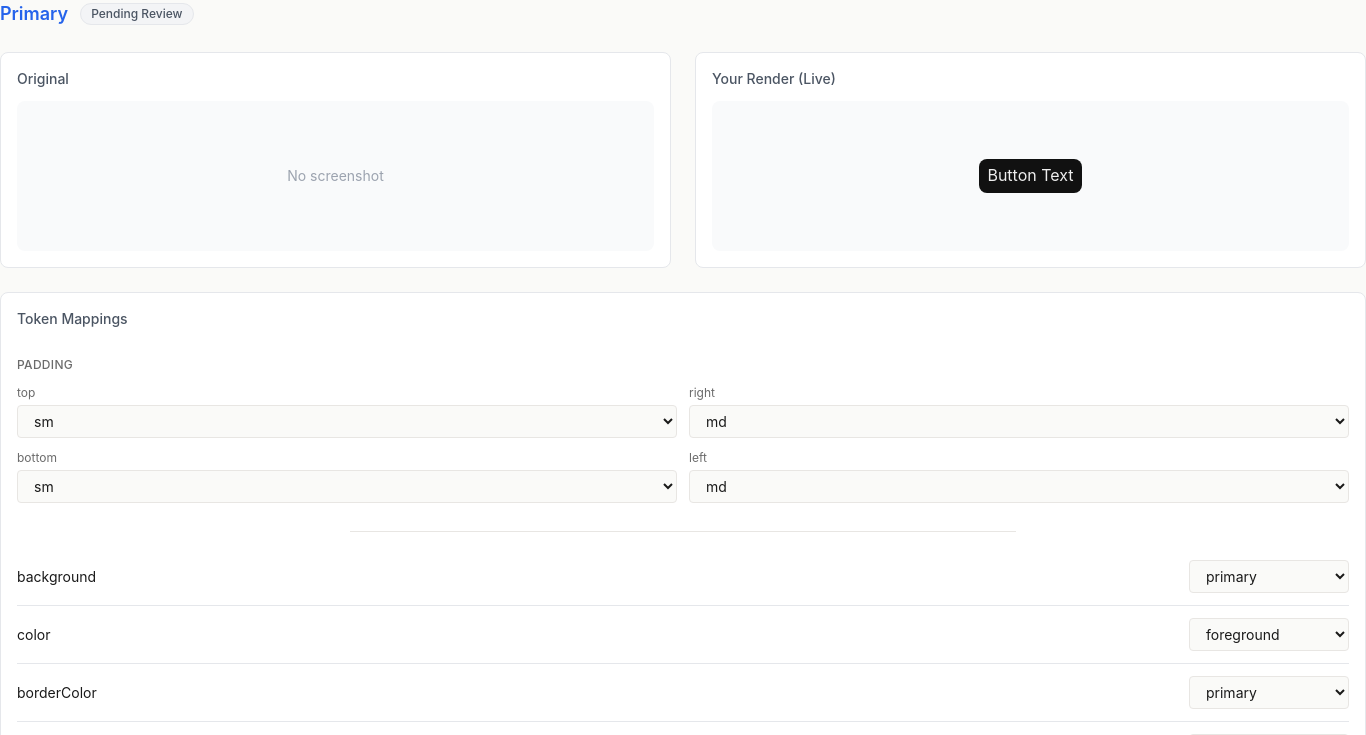
Scenario: VariantDetail › allows renaming and updates name via wizard state
Click the heading "Primary": (34, 14) top-left (0, 0), bottom-right (68, 28)
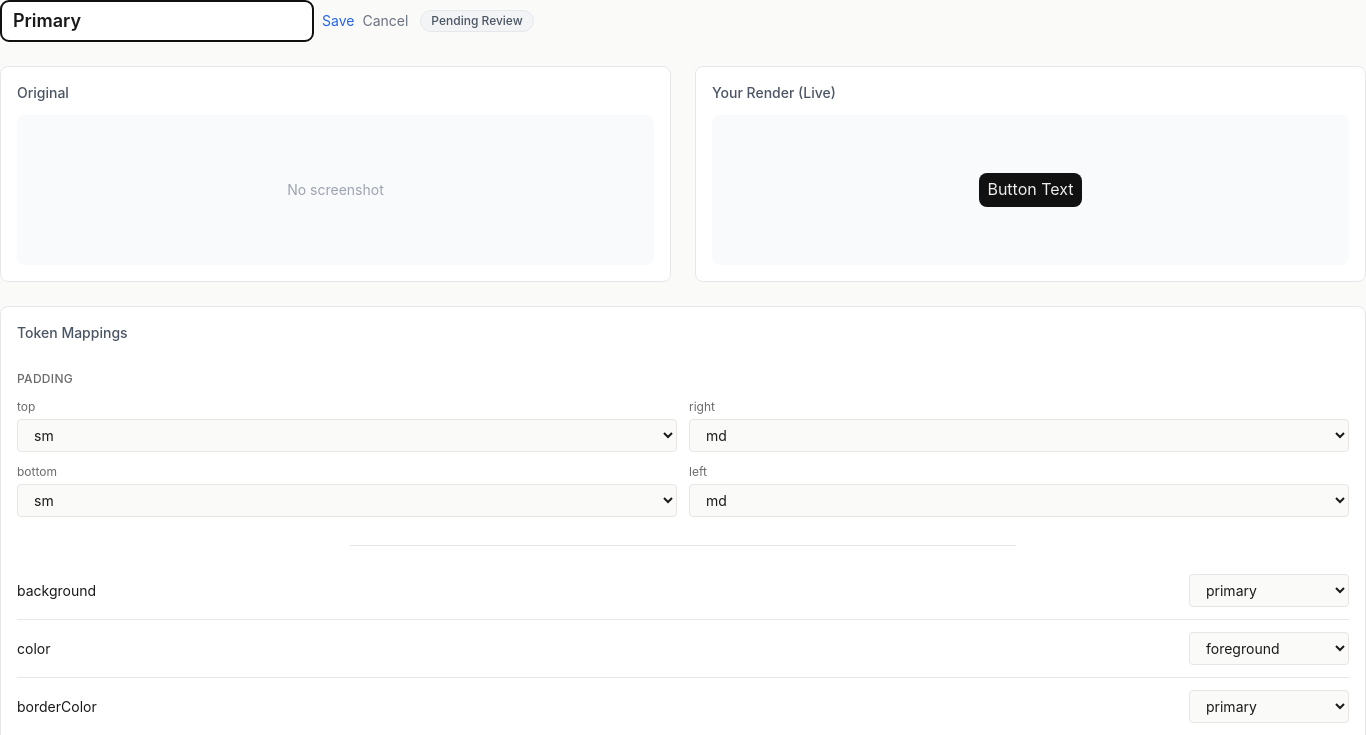
Replace the text in the field with "  Renamed  ": (157, 21) top-left (0, 0), bottom-right (314, 42)
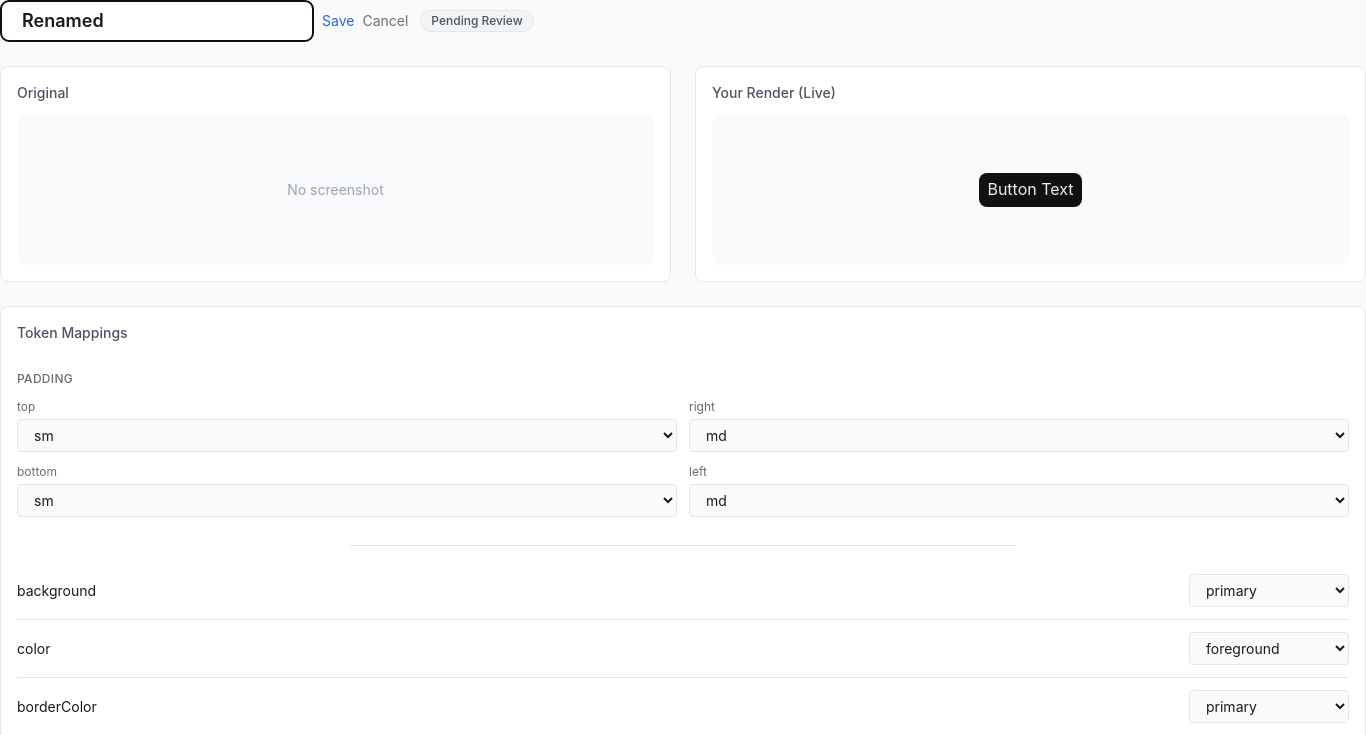
Click the button "Save": (338, 21) top-left (322, 11), bottom-right (354, 31)
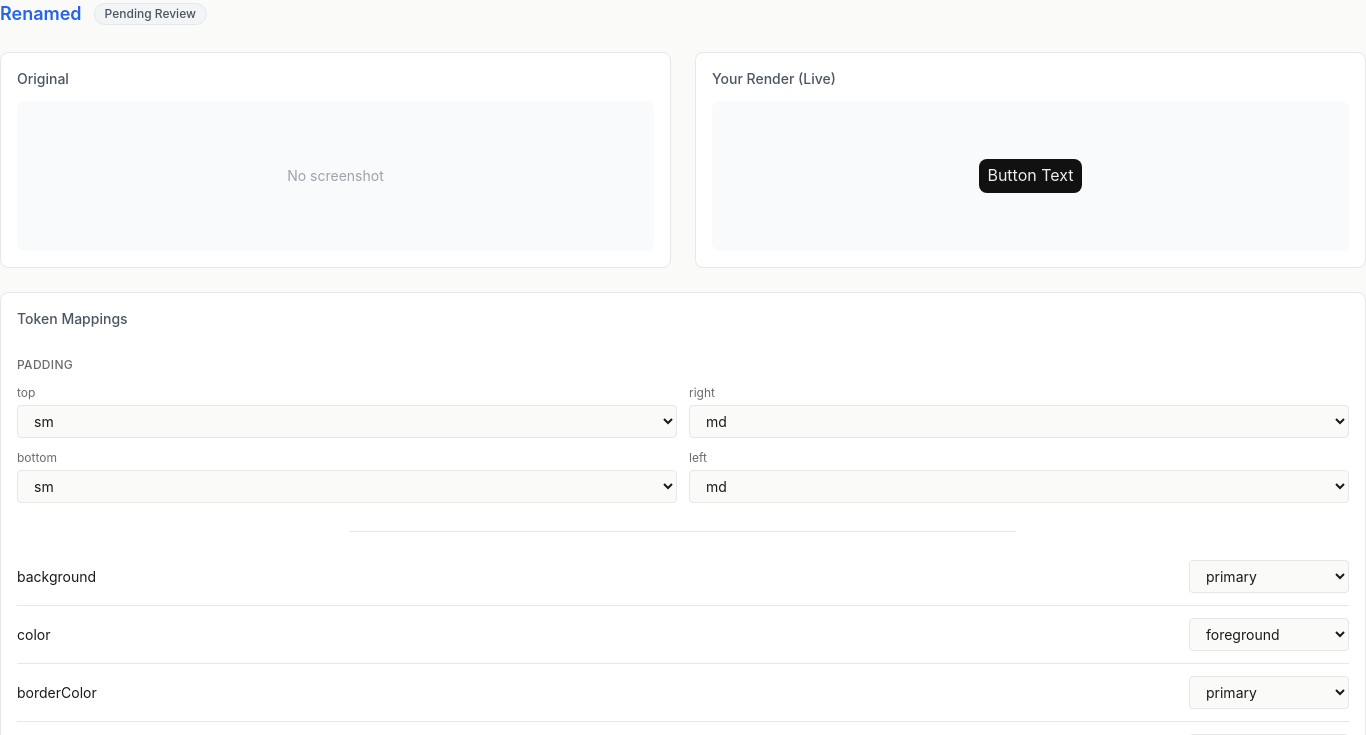
Expected: the heading "Renamed" is shown, top-left (0, 0), bottom-right (82, 28)
